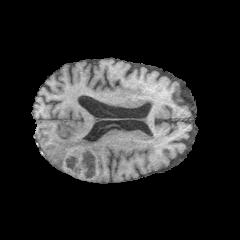glioma: (43, 136, 103, 182)
